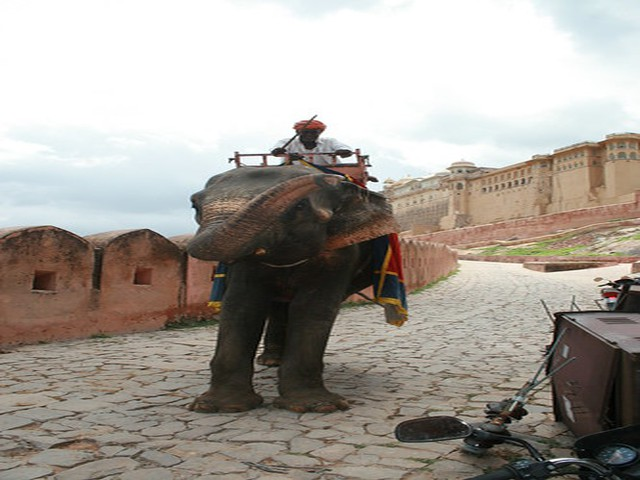Elephant: (183, 161, 402, 415)
Person: (272, 116, 358, 164)
